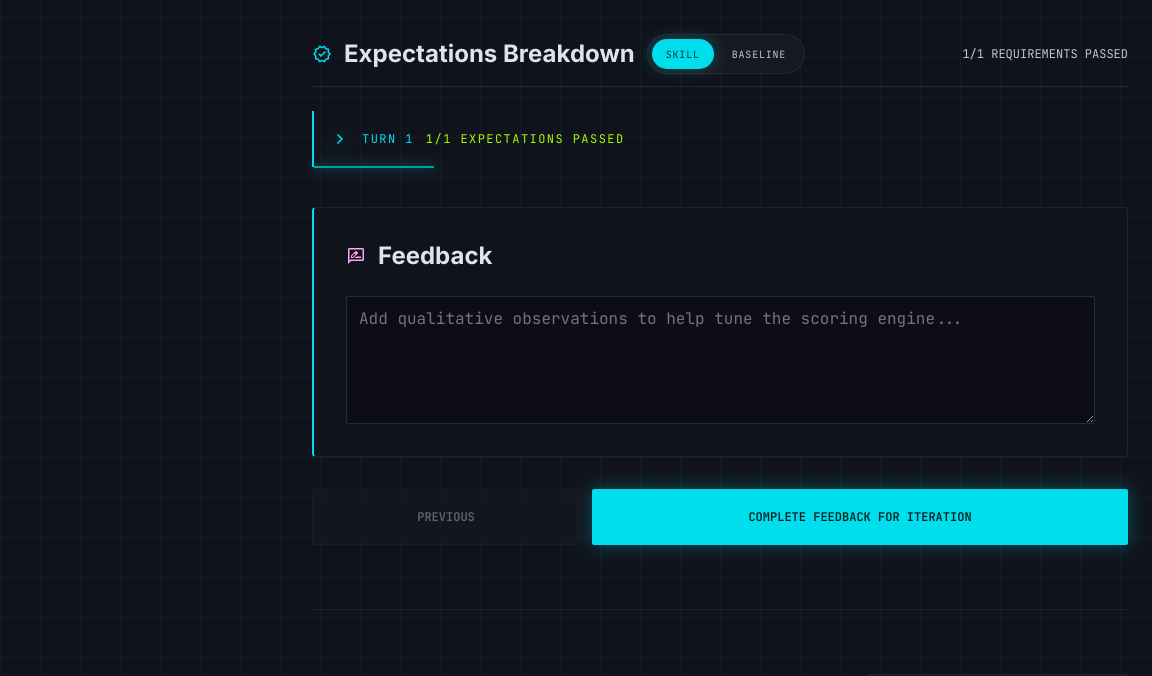
Test case: does not carry unsaved feedback drafts across iterations
(page scrolled)
Type "Draft for iteration 4." into the text box named "Review comments".
click(720, 360); type("Draft for iteration 4.")  # box x1=346 y1=296 x2=1095 y2=424
(page scrolled)
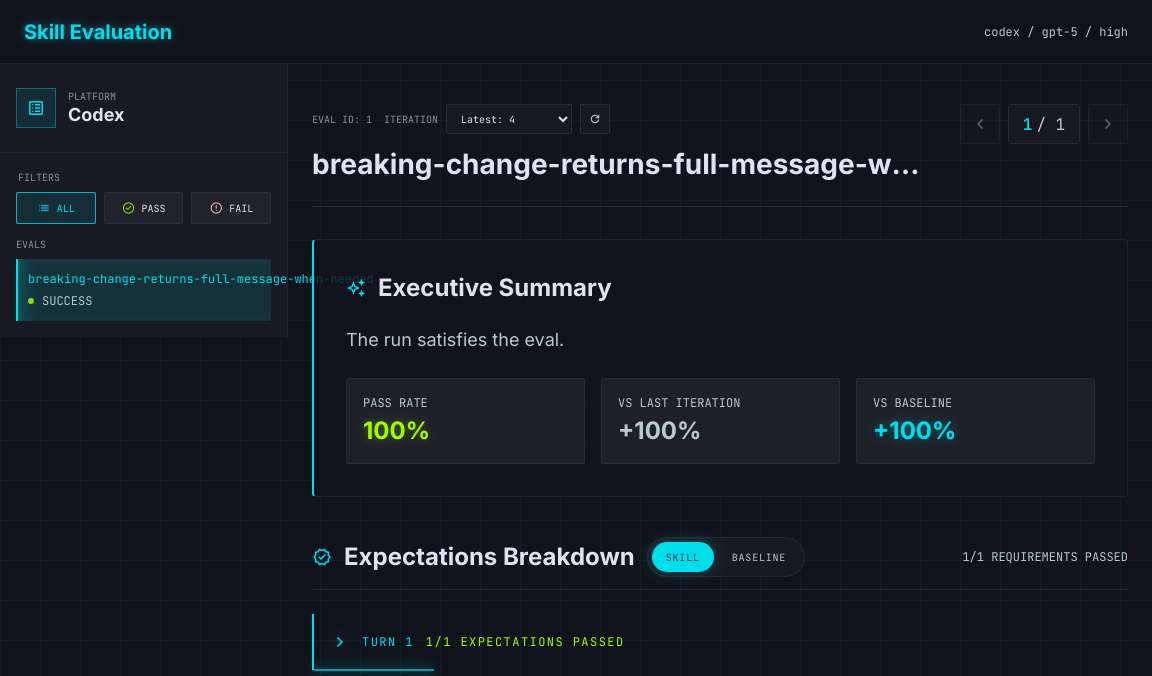
Select "Iteration 3" in the dropdown labelled "Iteration" at (509,119), box x1=446 y1=104 x2=572 y2=134
(page scrolled)
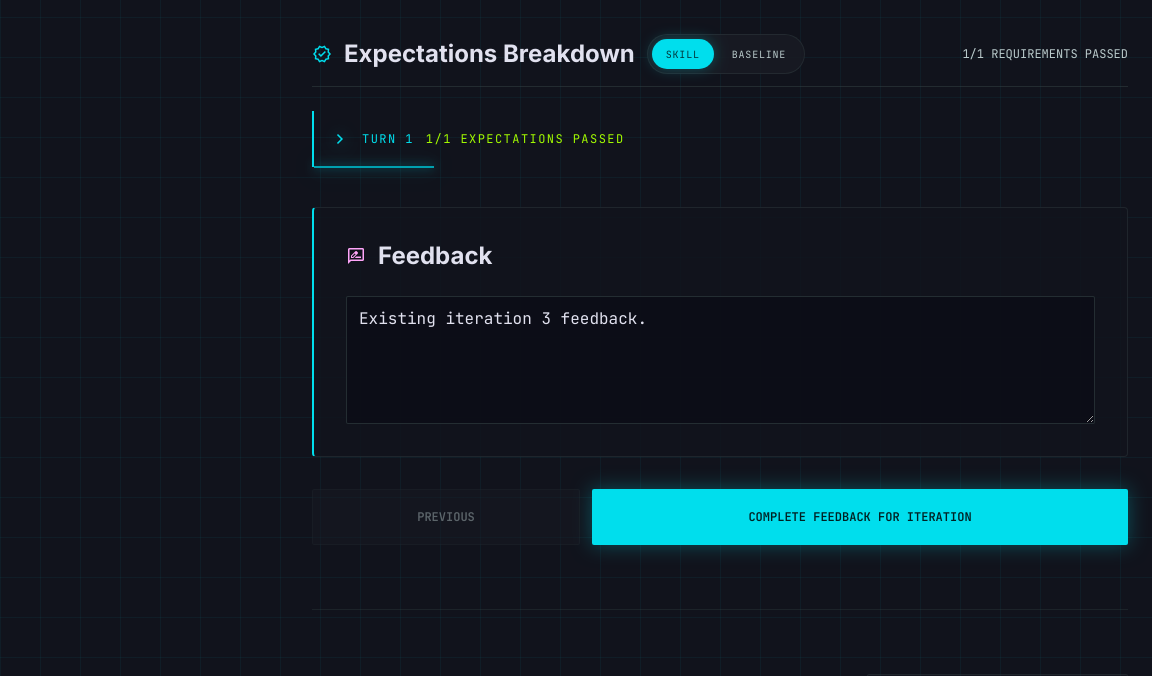
Check: the text box named "Review comments" holds "Existing iteration 3 feedback.", box x1=346 y1=296 x2=1095 y2=424
